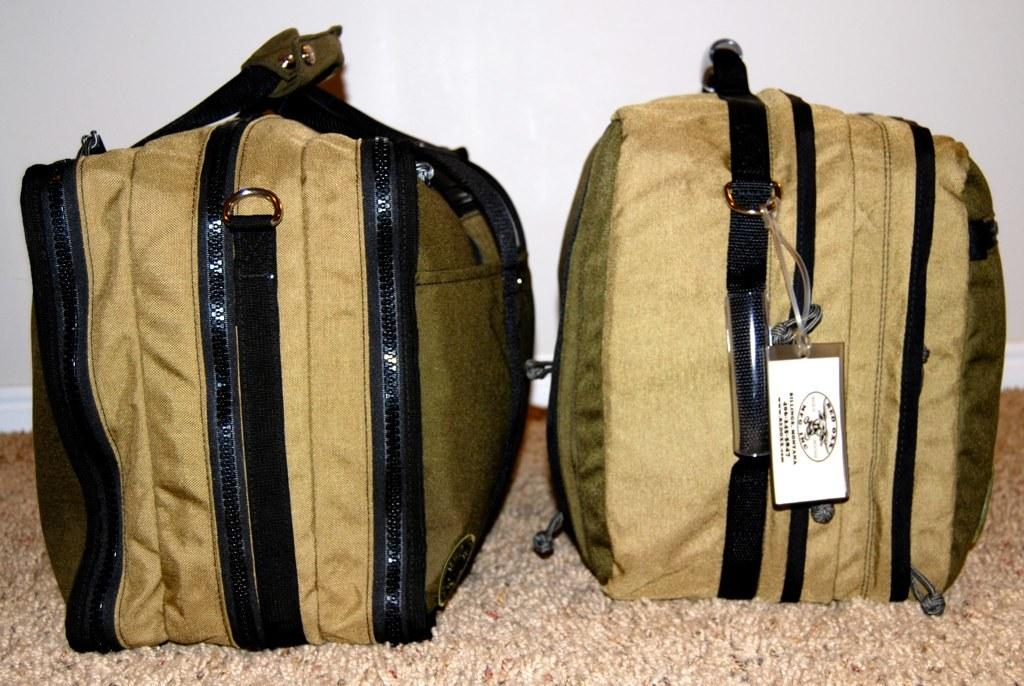Luggage-and-bags: (15, 21, 540, 651), (536, 40, 1003, 613)
